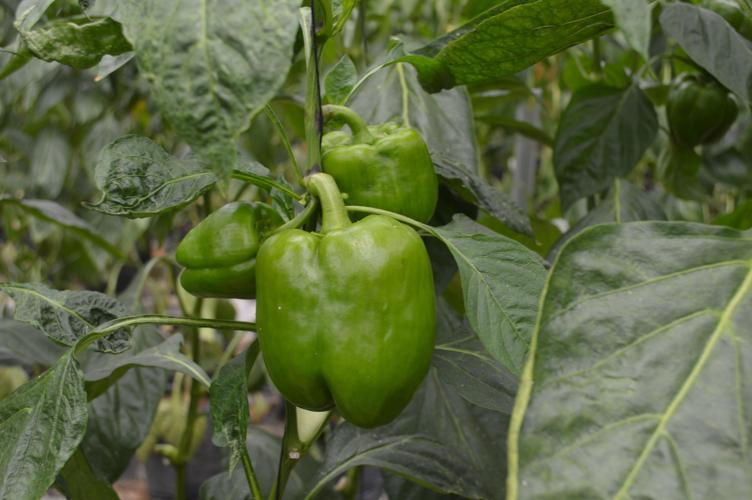BellPepper: (248, 215, 435, 425), (317, 127, 435, 229), (174, 204, 276, 305), (665, 74, 734, 148)
